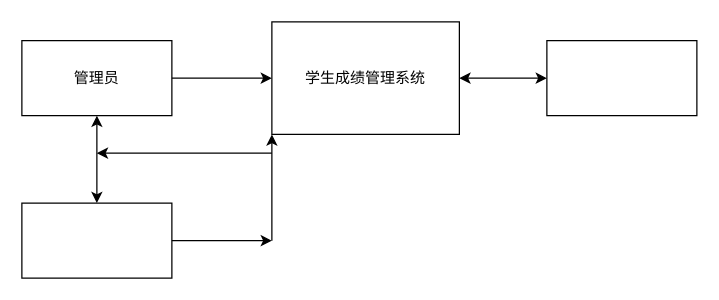
Image size: 719x300. Some labels were removed from this diagram. The centre of each missing label's shape, as x and y in pixels:
学生: pixel 96 240
数据库: pixel 621 77
